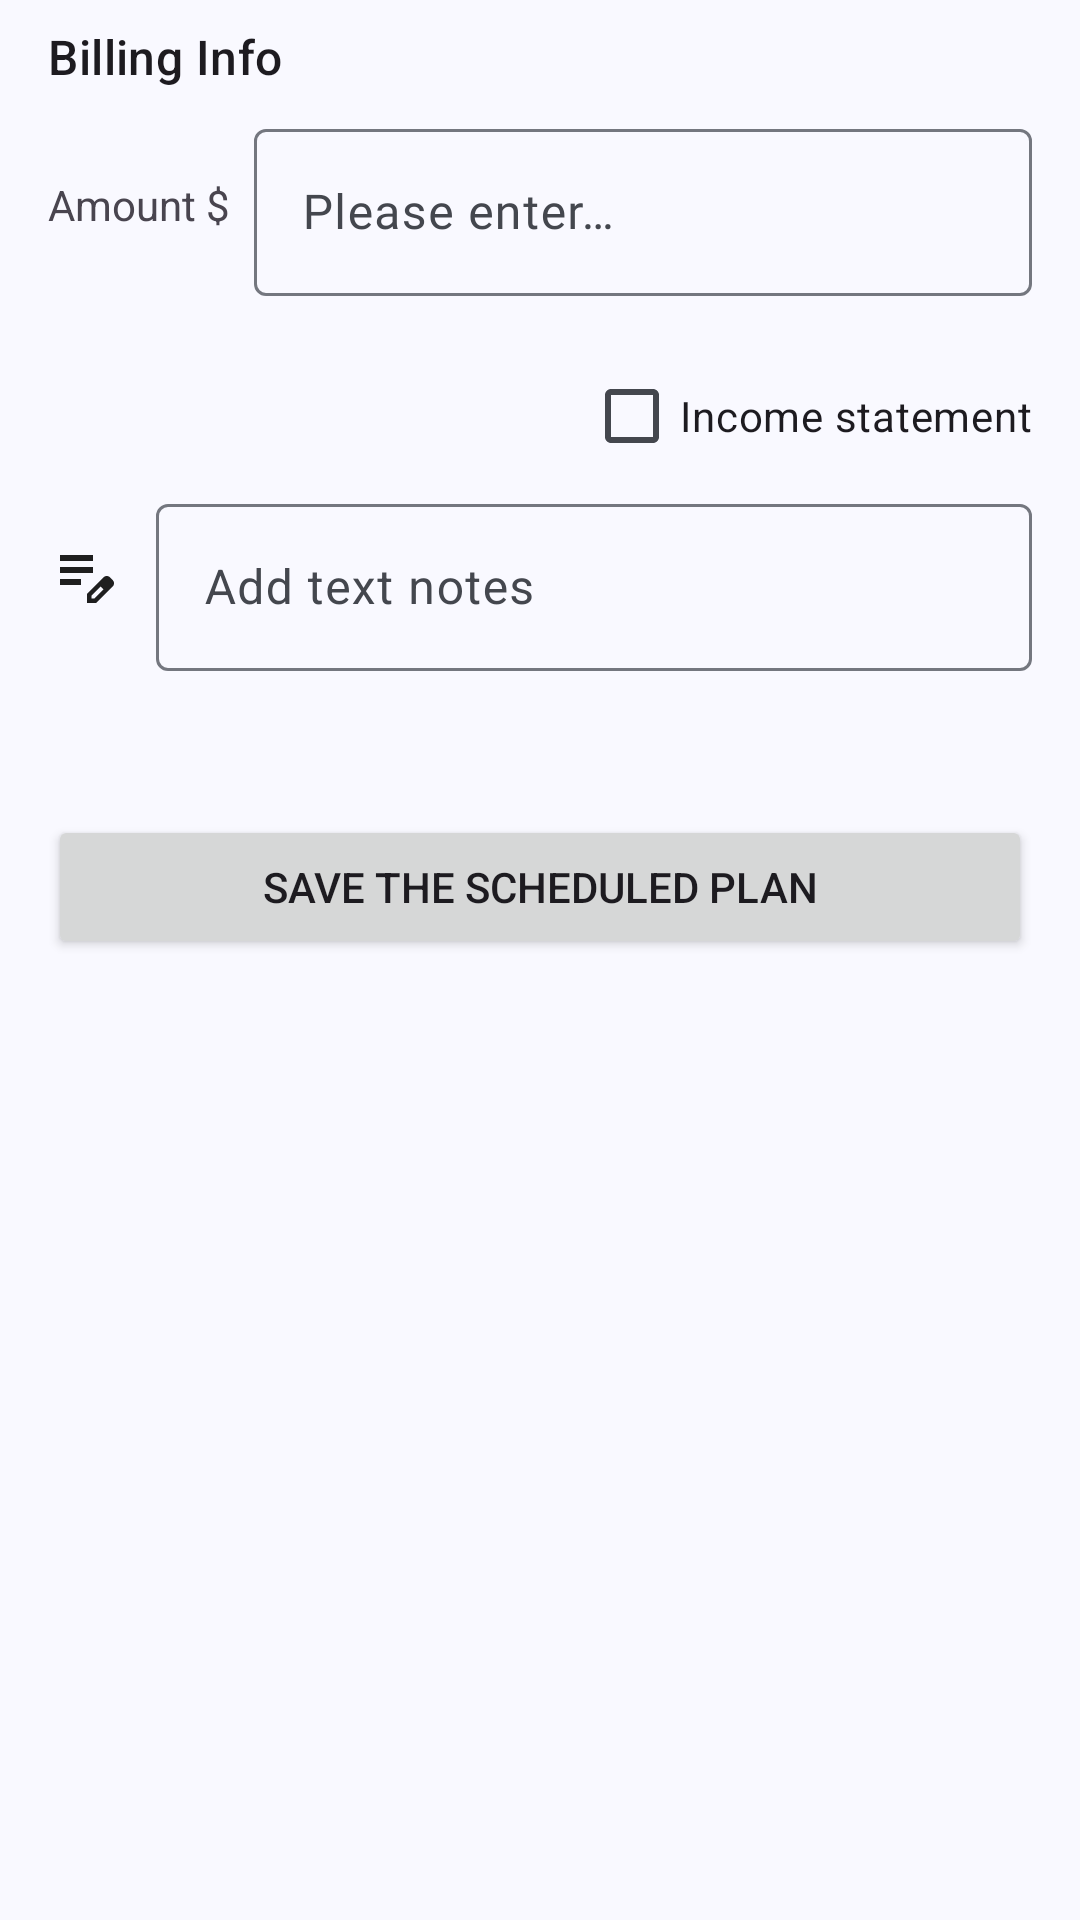

Named icons in this screenshot (1080 x 1920) and their centers, (x,y):
edit note: (87,579)
